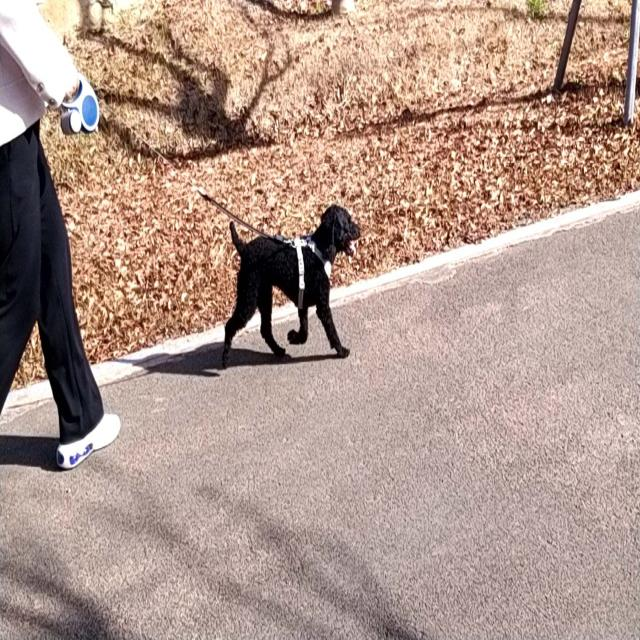Leashed_Dog: (56, 75, 363, 370)
